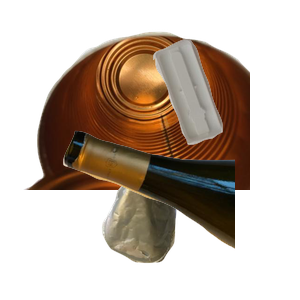glass: (60, 128, 300, 300)
metal: (21, 29, 261, 209)
plastic: (150, 36, 300, 173)
trash: (99, 155, 268, 300)
